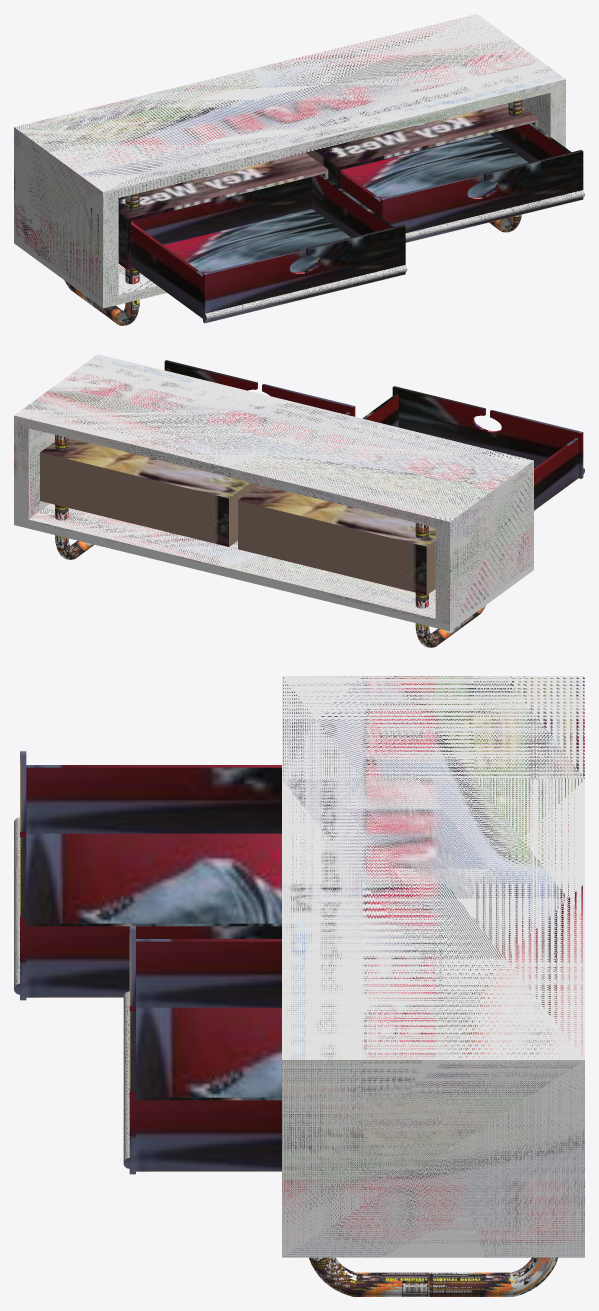
File: Rack1.dae
3 renders of one model, top to bottom at view 1: azimuth 30°, elevation 25°; view 2: azimuth 150°, elevation 25°; view 3: azimuth 270°, elevation 25°, orthographic. The views are drawn at different scales.
Visible parts, largest first — view 1: Group_8 (×3), Group_1 (×2), group_2 (×2), group_3, group_1, group_4; view 2: Group_8 (×2), group_1, group_3, Group_1, group_2, group_4, group_5; view 3: Group_8, Group_1 (×2), group_2 (×2), group_5.
Boxes of the visible parts, x1,y1,x2,y2 form: Group_8 (×3): (14,14,565,308); Group_1 (×2): (131,174,407,323); group_2 (×2): (340,123,584,242); group_3: (118,152,328,269); group_1: (305,103,538,187); group_4: (64,268,139,325); Group_8 (×2): (14,354,533,631); group_1: (40,438,258,546); group_3: (238,484,435,595); Group_1: (362,386,584,510); group_2: (164,360,355,416); group_4: (415,593,485,647); group_5: (55,504,93,559); Group_8: (282,676,584,1257); Group_1 (×2): (14,751,281,1000); group_2 (×2): (123,925,281,1174); group_5: (309,1257,557,1296).
Size of the model in its own units: 59.06 by 37.11 by 19.29.
